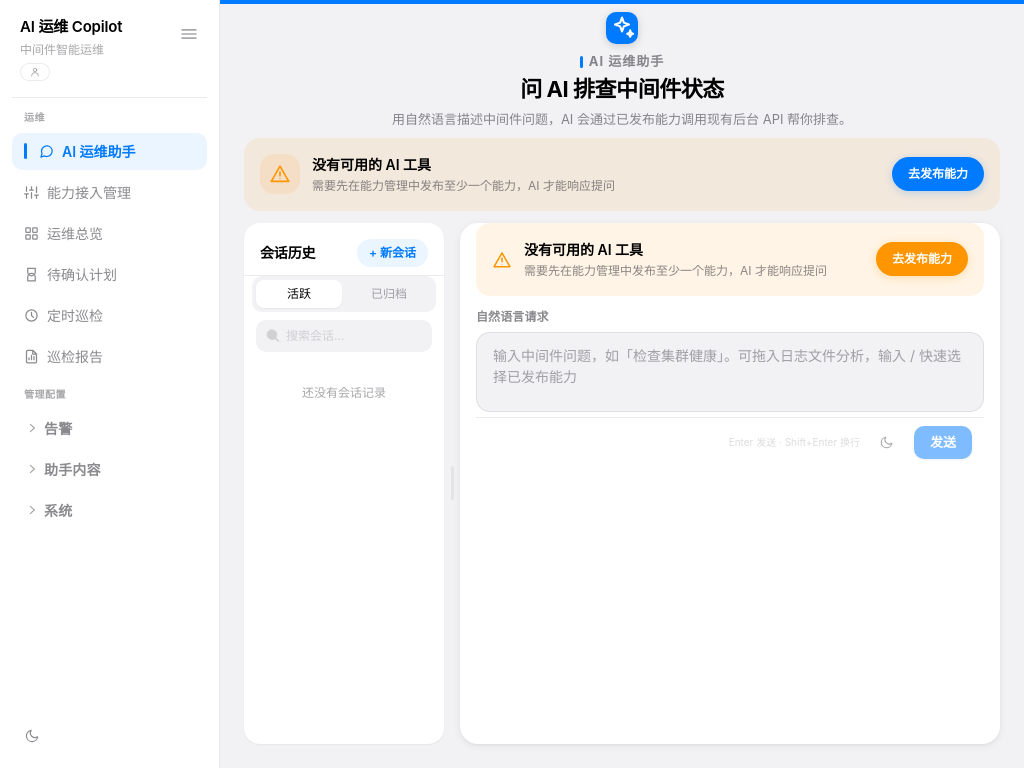
Test: Capability Console › shows clarification hint with quick picks after clarification_needed
Type "这个健康吗" into the text box with test id "assistant-input" at (730, 372), box [476,332,984,412]
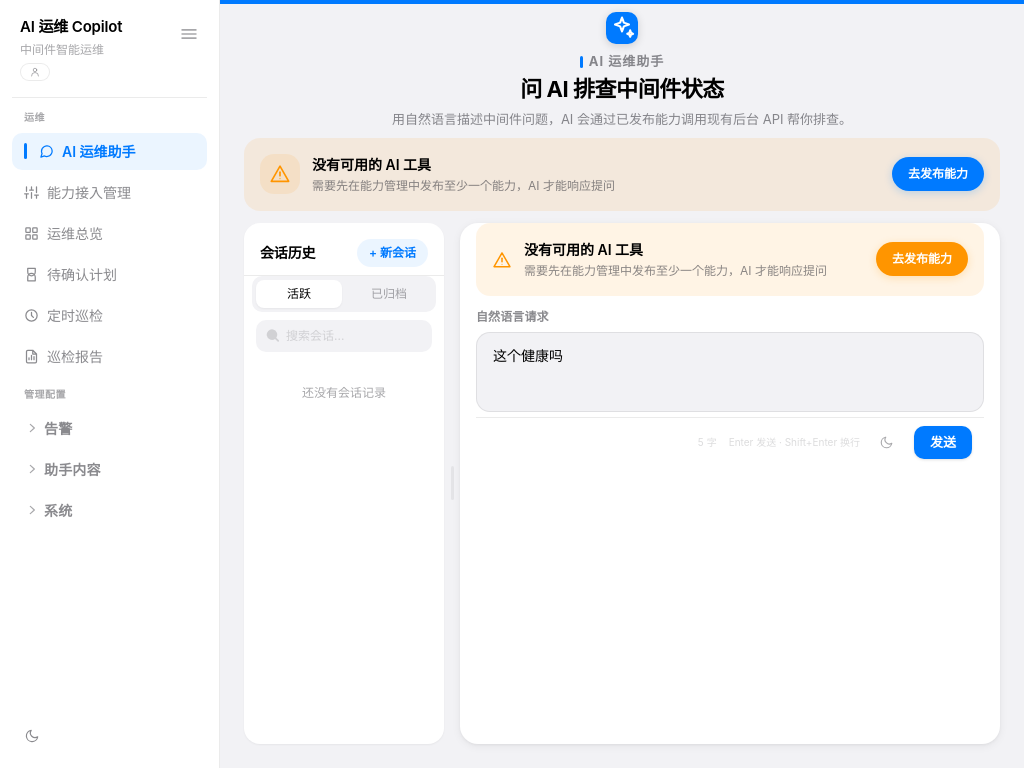
Click the button with test id "assistant-send" at (943, 442), box [914,426,972,459]
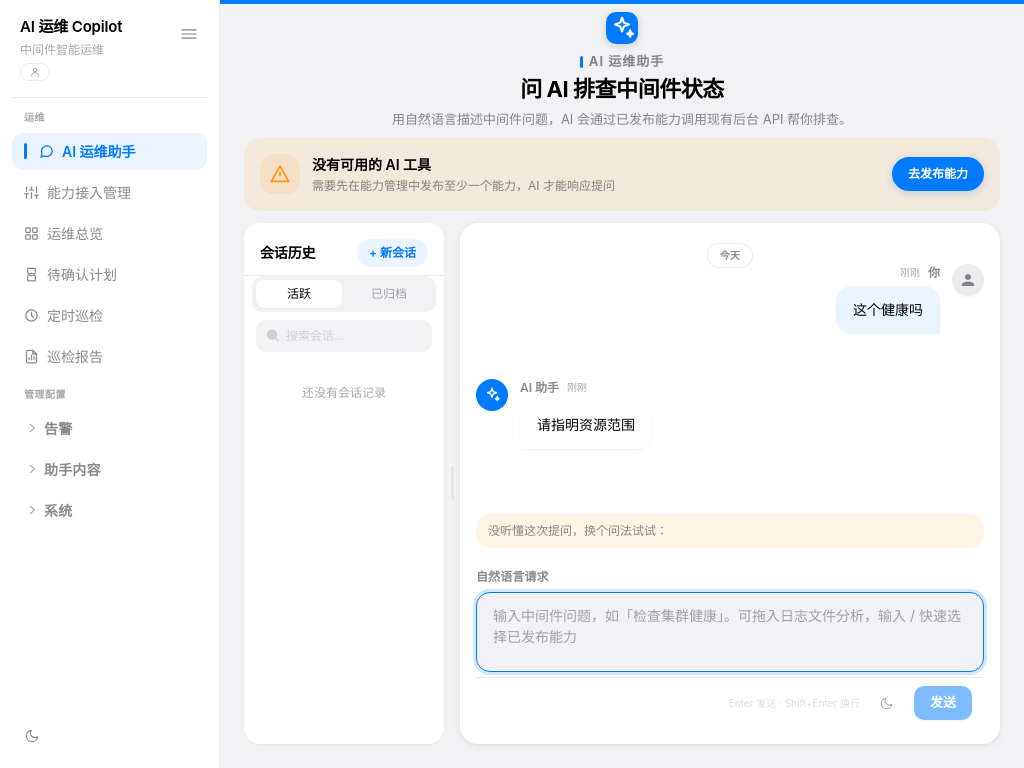
Expected: the element with test id "assistant-clarification-hint" is shown, [476,514,984,548]
